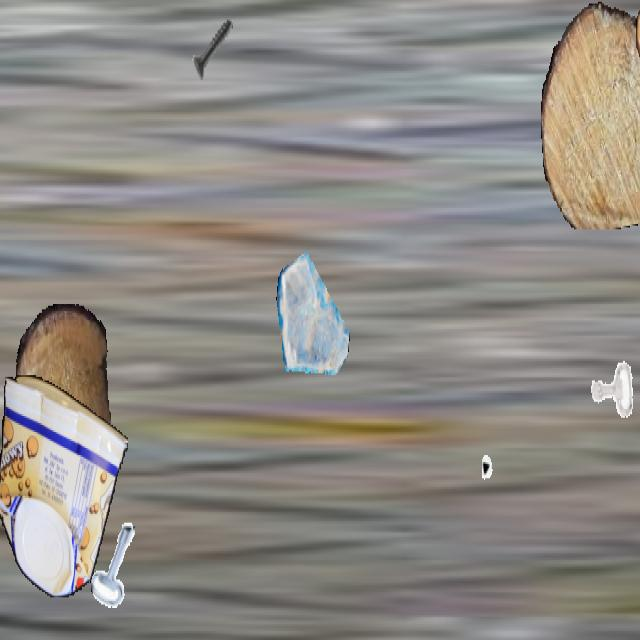glass: (276, 247, 350, 379)
metal: (482, 423, 544, 533), (585, 343, 637, 436), (187, 2, 239, 94), (90, 521, 142, 613)
plastic: (0, 375, 128, 596)
wood: (541, 2, 640, 229), (16, 304, 110, 489), (636, 2, 640, 80)
